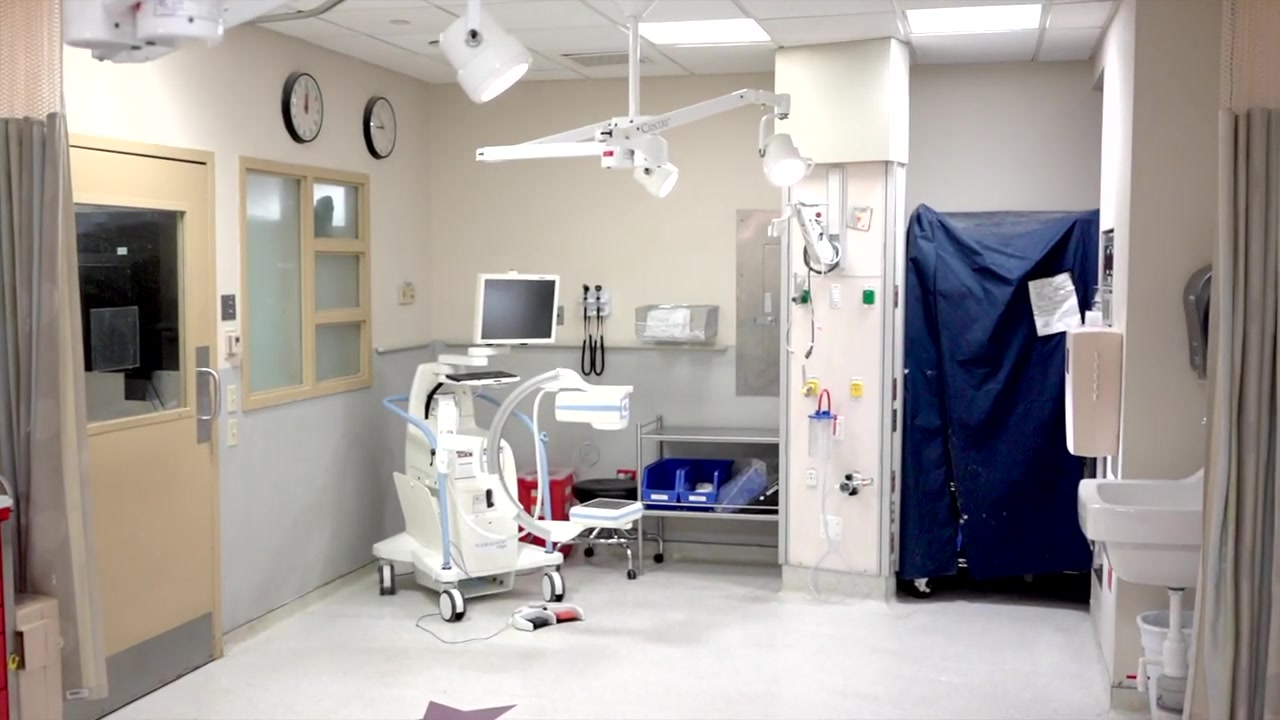bedside_monitor: (473, 273, 559, 344)
chair: (571, 478, 637, 558)
curtain: (1, 1, 108, 702), (1183, 1, 1280, 720)
dispenser: (1183, 263, 1213, 381)
door_handle: (194, 368, 220, 422)
light_switch: (227, 385, 238, 412), (227, 419, 238, 446)
medical_waste_container: (1062, 324, 1125, 457)
sink: (1078, 466, 1206, 589)
surgical_light: (436, 1, 531, 104), (761, 133, 814, 191), (629, 160, 681, 198)
waste_bin: (1136, 610, 1194, 720), (518, 466, 578, 560)
